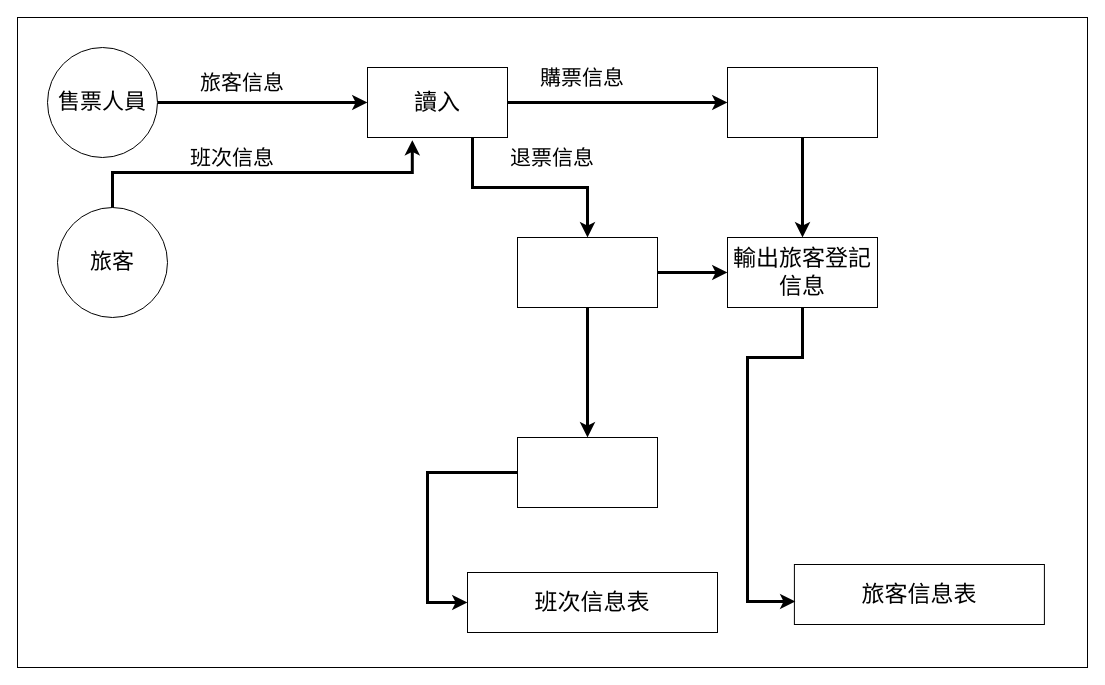
Image size: 1105x685. Some labels were removed from this diagram. Each missing label, with the centre of its shape:
購票處理: [802,102]
輸出班次信息表: [587,472]
退票處理: [587,272]
